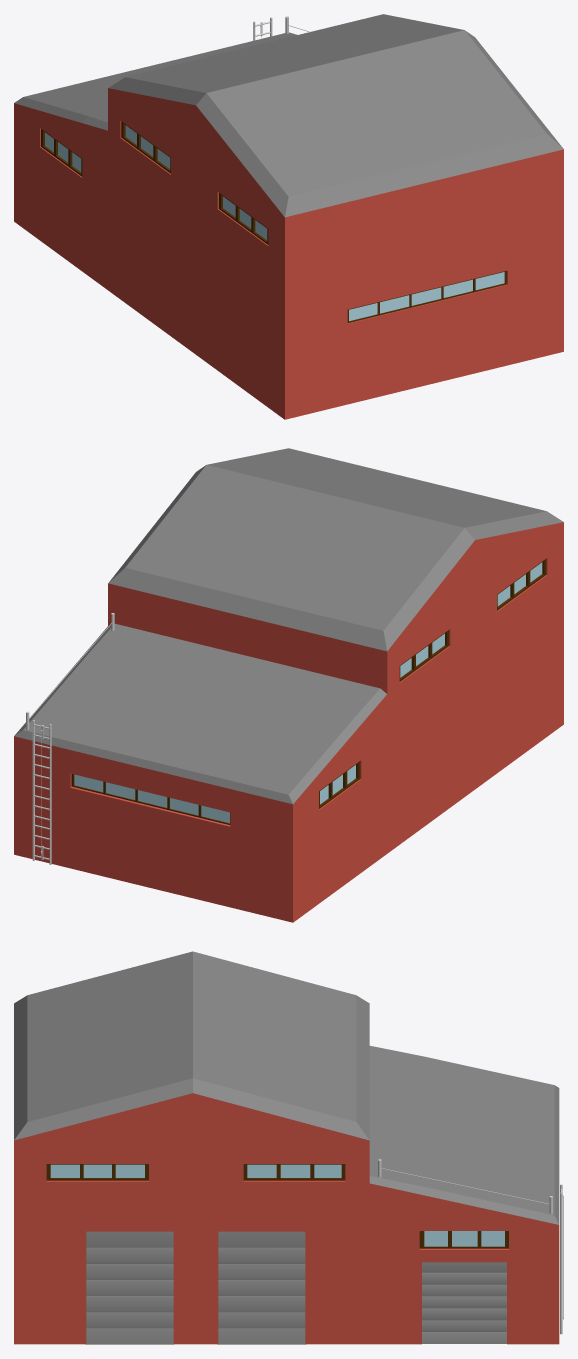
File: factorybuild(1).glb
3 views of the same model, one above another, from view 1: azimuth 30°, elevation 25°; view 2: azimuth 150°, elevation 25°; view 3: azimuth 270°, elevation 25° (orthographic).
Visible parts, largest first — view 1: Fabrika; view 2: Fabrika, Merdiven; view 3: Fabrika, Kapı 1, Kapı 2, Kapı 3.
Part boxes in pixels (bbox=[...]): Fabrika: bbox=[14, 14, 563, 419]; Fabrika: bbox=[14, 448, 563, 922]; Merdiven: bbox=[32, 720, 51, 864]; Fabrika: bbox=[14, 951, 559, 1344]; Kapı 1: bbox=[85, 1231, 173, 1344]; Kapı 2: bbox=[217, 1231, 305, 1344]; Kapı 3: bbox=[422, 1262, 506, 1343].
Bounding box in the file's own units: 176 × 156 × 298.
